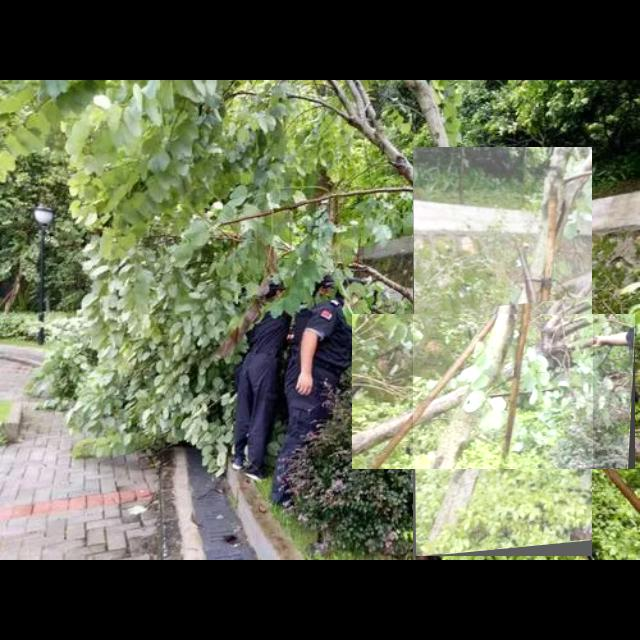Fallen Tree: (413, 147, 593, 557), (352, 314, 636, 470)
